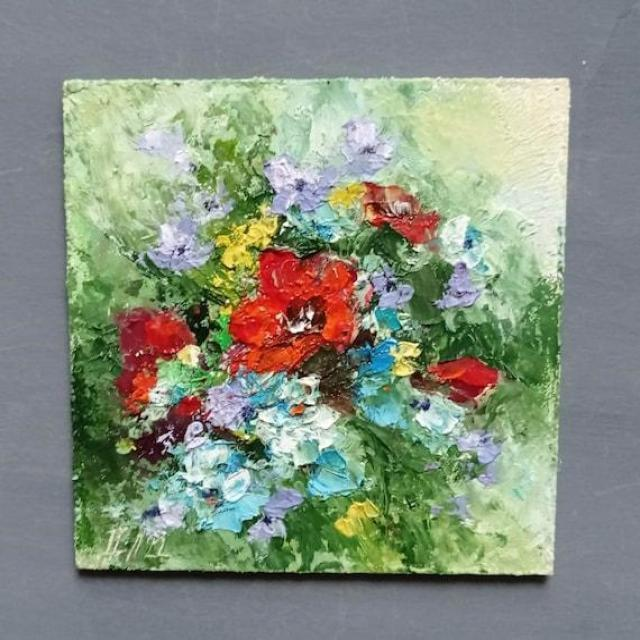painting: (63, 77, 567, 572)
